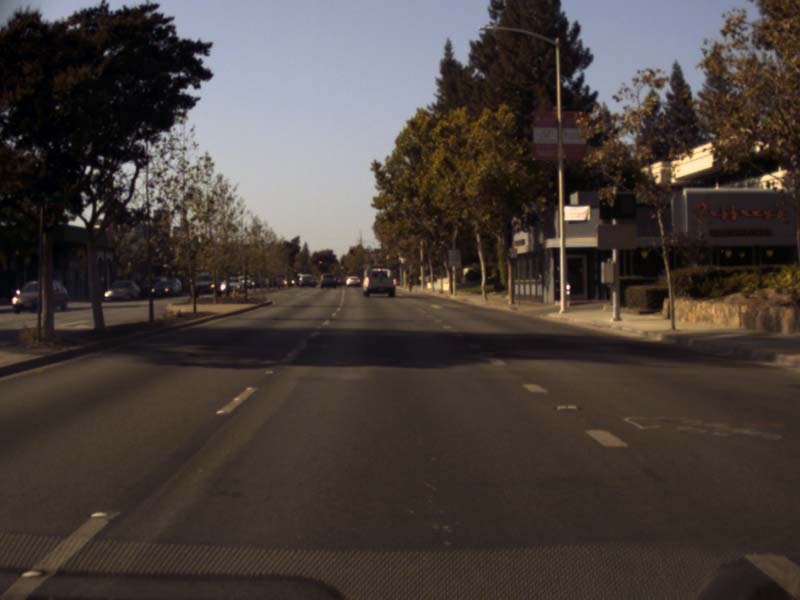Red: (318, 260, 323, 268)
